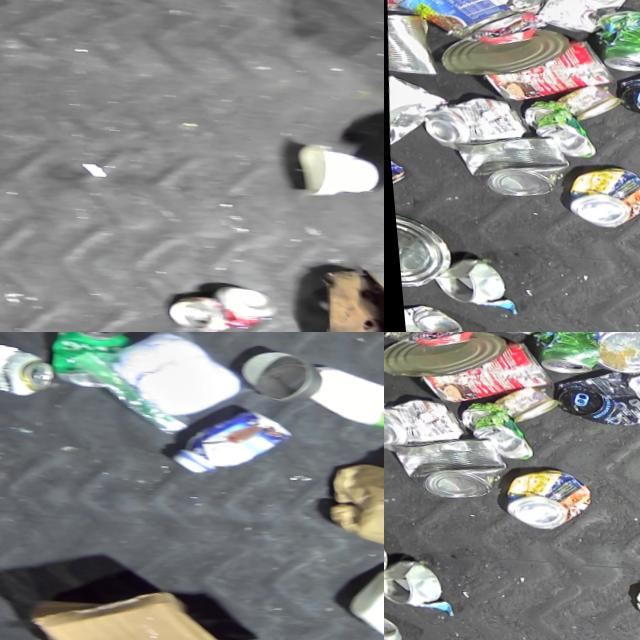can: (472, 31, 612, 108), (409, 333, 549, 410), (442, 128, 567, 200), (384, 429, 503, 501), (432, 21, 566, 81), (413, 92, 523, 153), (157, 278, 274, 332), (493, 465, 587, 532), (547, 364, 640, 430), (384, 332, 502, 382), (384, 0, 516, 44), (555, 163, 640, 230), (37, 332, 132, 391), (230, 346, 319, 405), (388, 212, 448, 291), (513, 99, 593, 158), (450, 401, 530, 460), (384, 393, 460, 455), (420, 254, 495, 306), (586, 9, 640, 74), (528, 0, 627, 35), (523, 332, 599, 376), (384, 11, 437, 74), (0, 335, 51, 397), (548, 81, 617, 123), (485, 383, 554, 425), (384, 556, 432, 607), (589, 332, 640, 376), (610, 62, 640, 128), (394, 303, 459, 332), (384, 136, 403, 193)
milk_jug: (297, 363, 384, 435)
